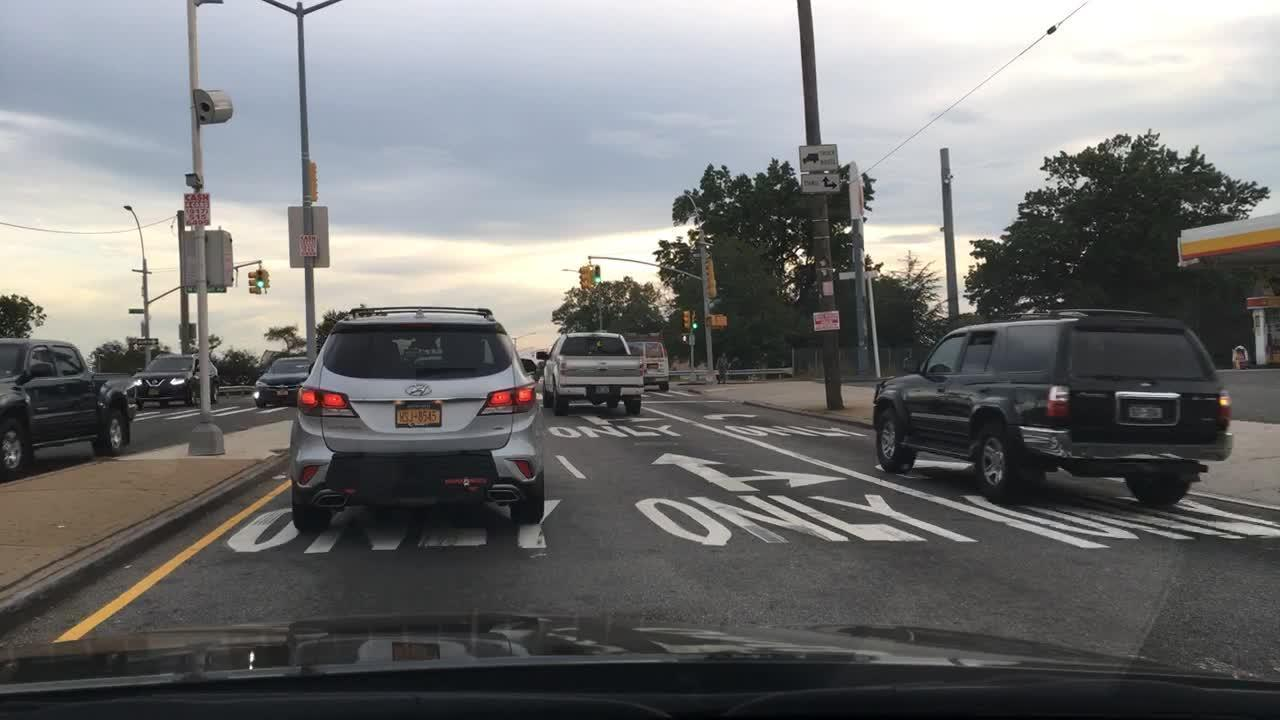Hyundai: (403, 381, 435, 399)
